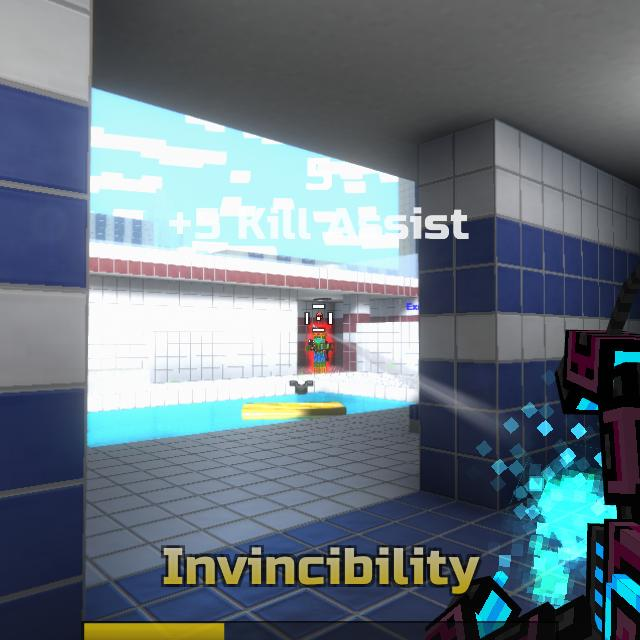Enemy: (306, 331, 333, 373)
